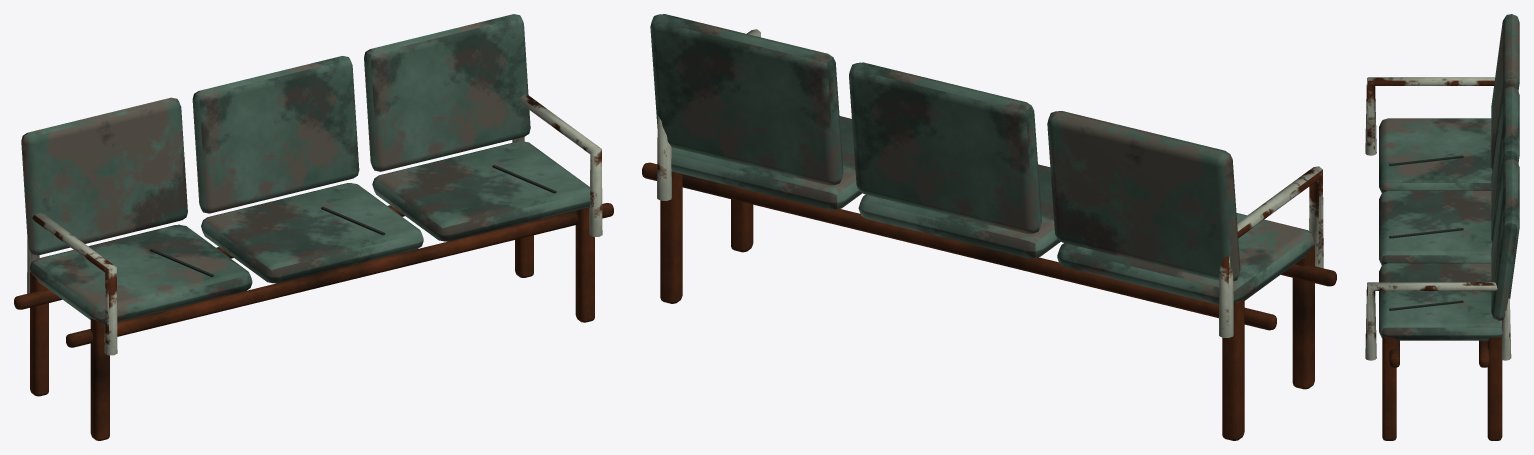
Rendered from waiting_bench.glb.
3 renders of one model, left to right at view 1: azimuth 30°, elevation 25°; view 2: azimuth 150°, elevation 25°; view 3: azimuth 270°, elevation 25°, orthographic. The views are drawn at different scales.
Visible parts, largest first — view 1: Waiting back.001, Waiting back.002, Waiting back, Waiting seat.001, Waiting seat.002, Waiting seat, Bench crossmember, Bench arm frame, Bench arm frame.001, Waiting bench foot, Waiting bench foot.002, Waiting bench foot.001 (+2 smaller); view 2: Waiting back.001, Waiting back.002, Waiting back, Bench crossmember.001, Waiting seat, Waiting seat.001, Waiting seat.002, Bench arm frame, Waiting bench foot.001, Waiting bench foot, Waiting bench foot.003, Bench arm frame.001 (+2 smaller); view 3: Waiting seat, Waiting seat.001, Waiting seat.002, Waiting back.002, Bench arm frame.001, Waiting back.001, Waiting back, Bench arm frame, Waiting bench foot.003, Waiting bench foot.002, Bench crossmember.001, Bench crossmember (+3 smaller).
Boxes of the visible parts, x1=… form: Waiting back.001: x1=192, y1=56, x2=359, y2=213; Waiting back.002: x1=364, y1=14, x2=530, y2=171; Waiting back: x1=21, y1=97, x2=187, y2=255; Waiting seat.001: x1=201, y1=183, x2=423, y2=283; Waiting seat.002: x1=372, y1=141, x2=589, y2=241; Waiting seat: x1=29, y1=224, x2=252, y2=324; Bench crossmember: x1=66, y1=203, x2=613, y2=347; Bench arm frame: x1=27, y1=213, x2=117, y2=355; Bench arm frame.001: x1=512, y1=94, x2=602, y2=237; Waiting bench foot: x1=90, y1=318, x2=109, y2=440; Waiting bench foot.002: x1=575, y1=207, x2=594, y2=322; Waiting bench foot.001: x1=30, y1=272, x2=48, y2=396; Waiting back.001: x1=849, y1=62, x2=1041, y2=233; Waiting back.002: x1=650, y1=14, x2=843, y2=185; Waiting back: x1=1047, y1=111, x2=1240, y2=281; Bench crossmember.001: x1=642, y1=162, x2=1276, y2=330; Waiting seat: x1=1057, y1=213, x2=1315, y2=304; Waiting seat.001: x1=858, y1=164, x2=1060, y2=258; Waiting seat.002: x1=671, y1=116, x2=862, y2=209; Bench arm frame: x1=1219, y1=166, x2=1323, y2=337; Waiting bench foot.001: x1=1222, y1=298, x2=1244, y2=440; Waiting bench foot: x1=1292, y1=245, x2=1314, y2=389; Waiting bench foot.003: x1=660, y1=171, x2=682, y2=303; Bench arm frame.001: x1=657, y1=29, x2=760, y2=200; Waiting seat: x1=1379, y1=118, x2=1492, y2=192; Waiting seat.001: x1=1379, y1=190, x2=1492, y2=265; Waiting seat.002: x1=1379, y1=263, x2=1502, y2=340; Waiting back.002: x1=1491, y1=159, x2=1519, y2=320; Bench arm frame.001: x1=1365, y1=282, x2=1511, y2=360; Waiting back.001: x1=1491, y1=86, x2=1519, y2=242; Waiting back: x1=1491, y1=14, x2=1519, y2=170; Bench arm frame: x1=1365, y1=77, x2=1495, y2=155; Waiting bench foot.003: x1=1487, y1=336, x2=1502, y2=440; Waiting bench foot.002: x1=1382, y1=336, x2=1396, y2=440; Bench crossmember.001: x1=1479, y1=340, x2=1489, y2=367; Bench crossmember: x1=1389, y1=340, x2=1399, y2=367.
Size of the model in its own units: 2.07 by 0.9235 by 0.5861.
4 materials, 3 textured.
